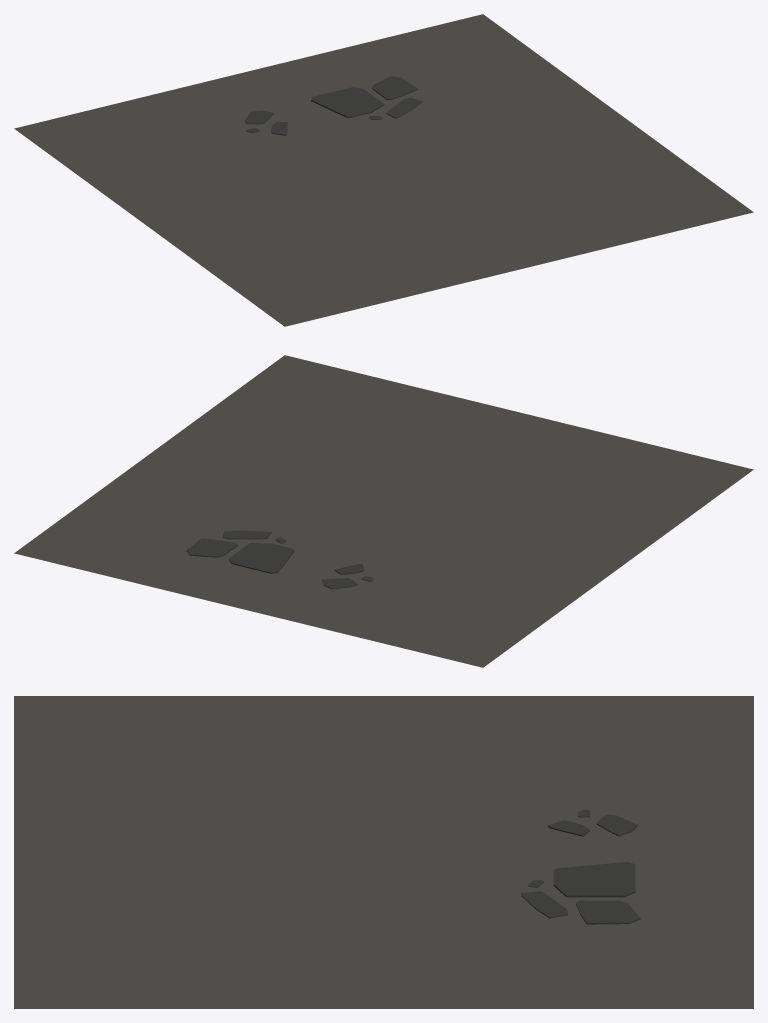
Rendered from floor2.fbx.
3 renders of one model, top to bottom at view 1: azimuth 30°, elevation 25°; view 2: azimuth 150°, elevation 25°; view 3: azimuth 270°, elevation 25°, orthographic. The views are drawn at different scales.
Visible parts, largest first — view 1: floor.011; view 2: floor.011; view 3: floor.011.
Boxes of the visible parts, x1,y1,x2,y2 form: floor.011: (14, 14, 753, 326); floor.011: (14, 355, 753, 667); floor.011: (14, 696, 753, 1008).
Bounding box in the file's own units: 4 × 4 × 0.0161.
Materials: 1 (1 with a texture image).
